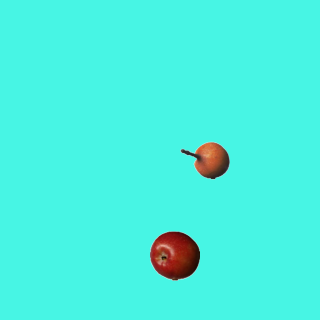Apple Braeburn: (149, 230, 199, 280)
Granadilla: (179, 135, 229, 185)
